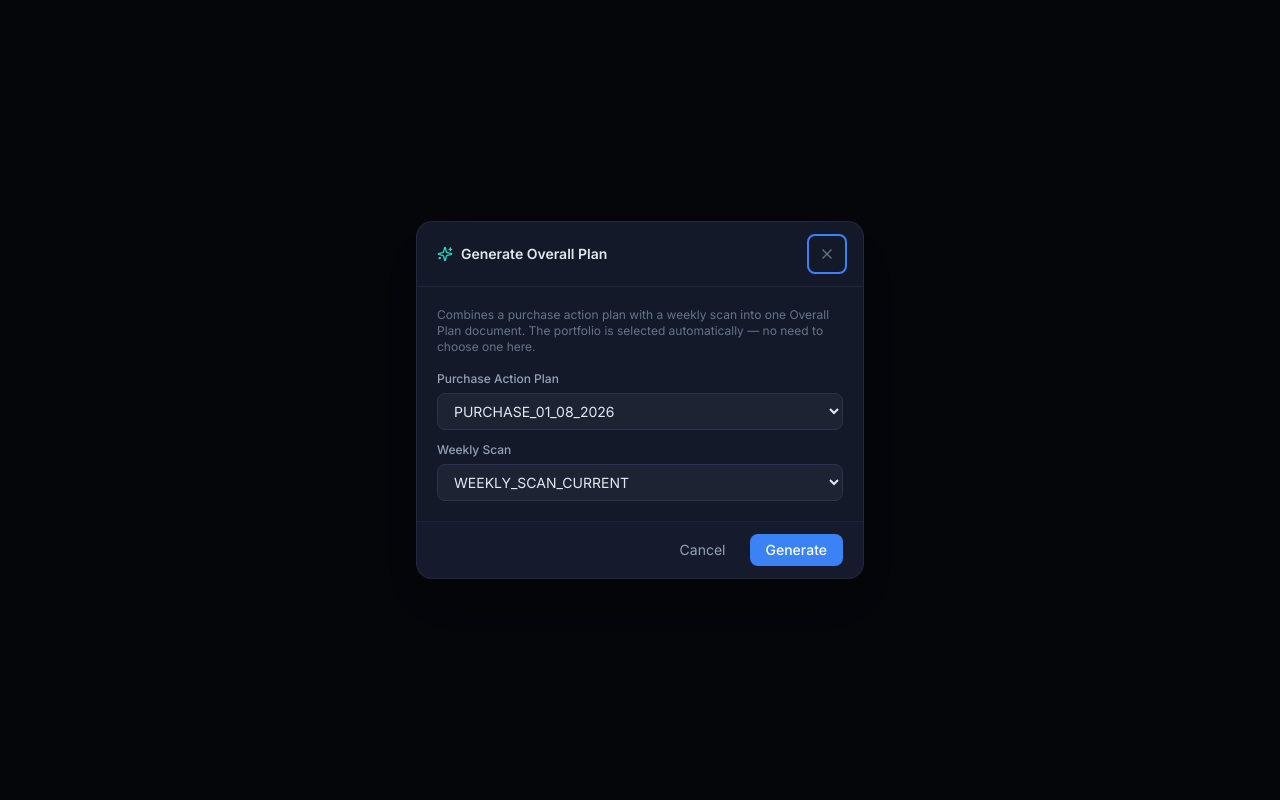
Test: GenerateOverallPlanModal — error responses › renders "Weekly scan not found" inline and keeps the modal open
Step 1. Click the button "Generate" → click(796, 550), box [750,534,843,566]
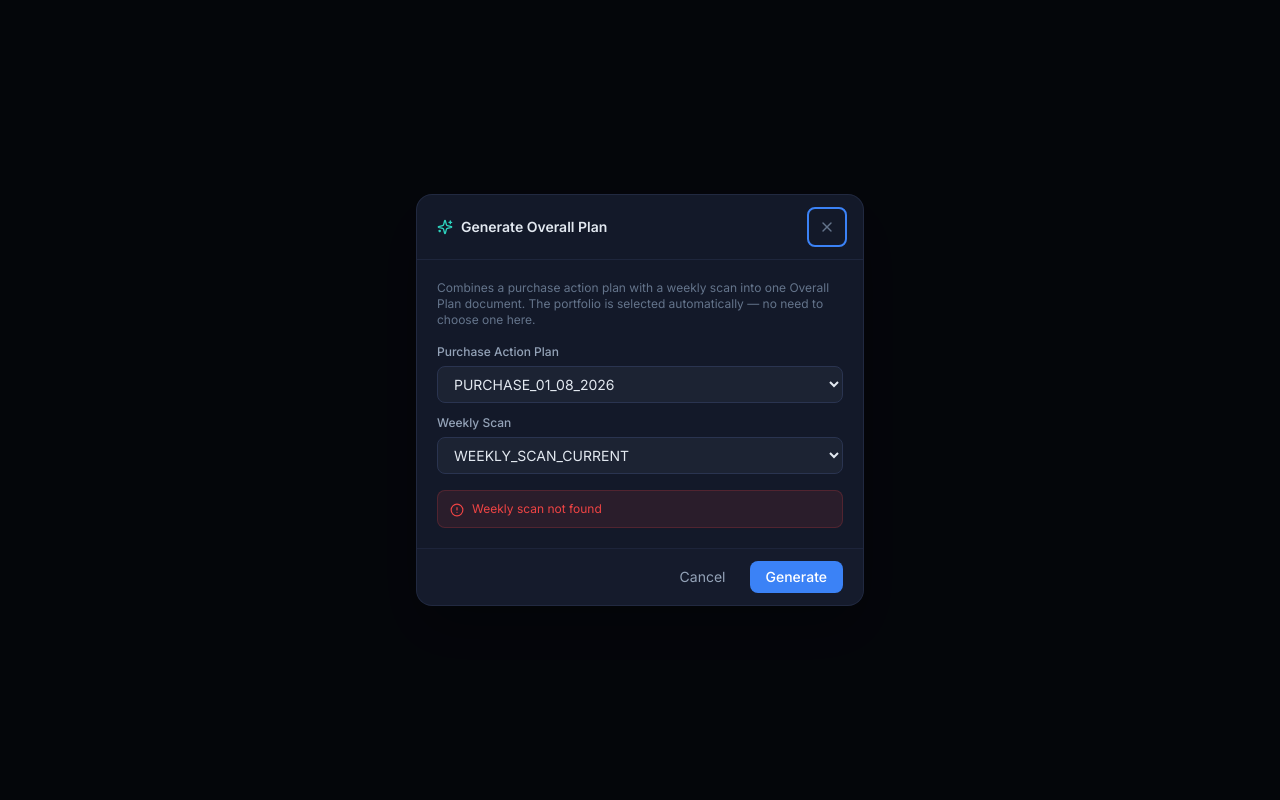
Check: the text "Weekly scan not found" is shown, box [437,490,843,528]
